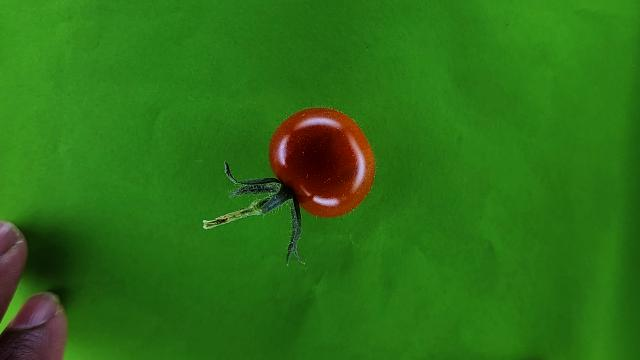Fully Grown: (267, 106, 379, 219)
